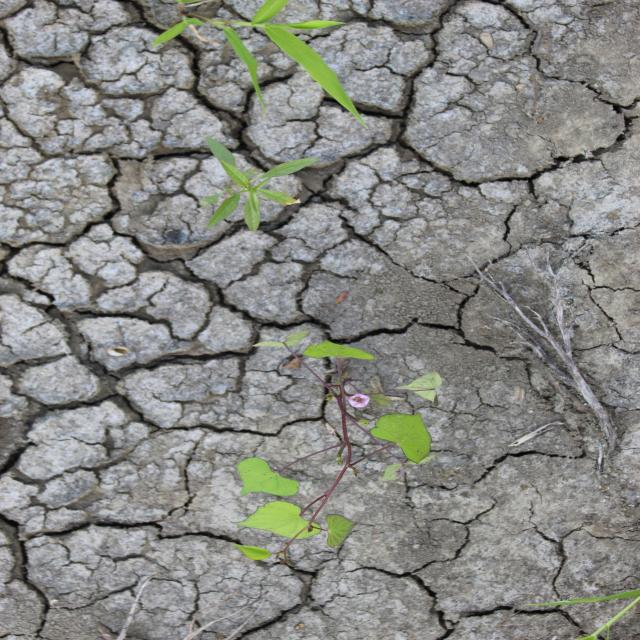MorningGlory: (225, 329, 445, 569)
Waterhemp: (196, 136, 322, 234)
